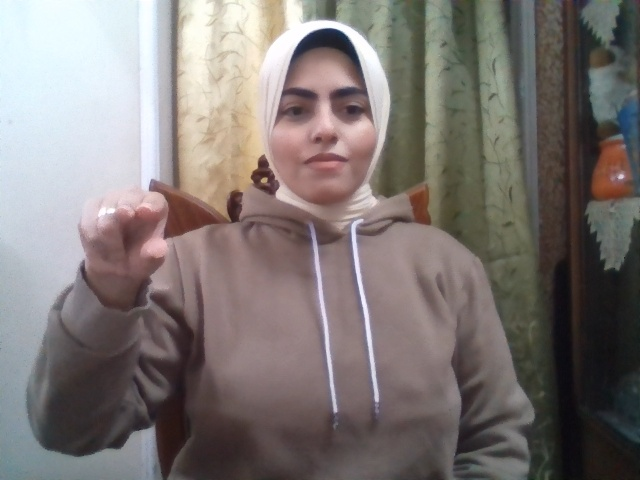no: (78, 187, 169, 282)
